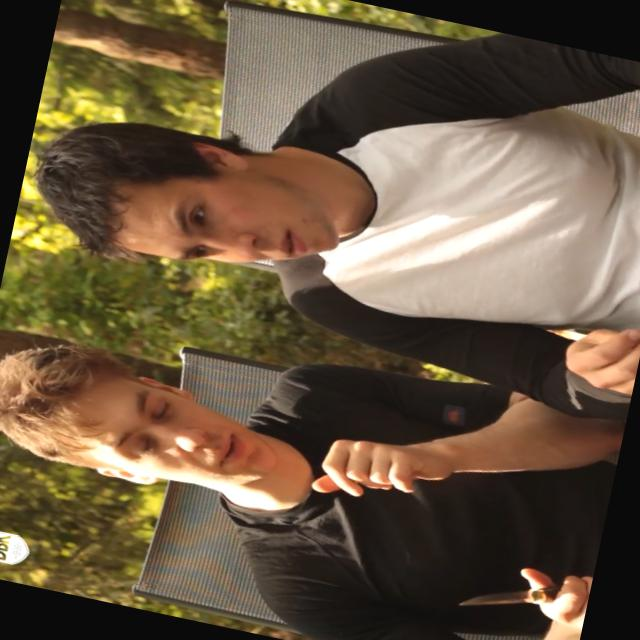knife: (434, 542, 593, 639)
